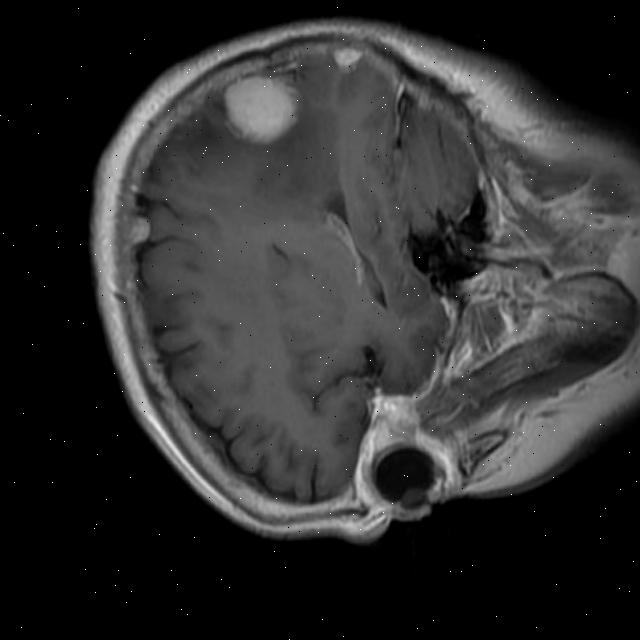Meningioma: (220, 70, 301, 148), (330, 40, 364, 75), (125, 211, 151, 245)
